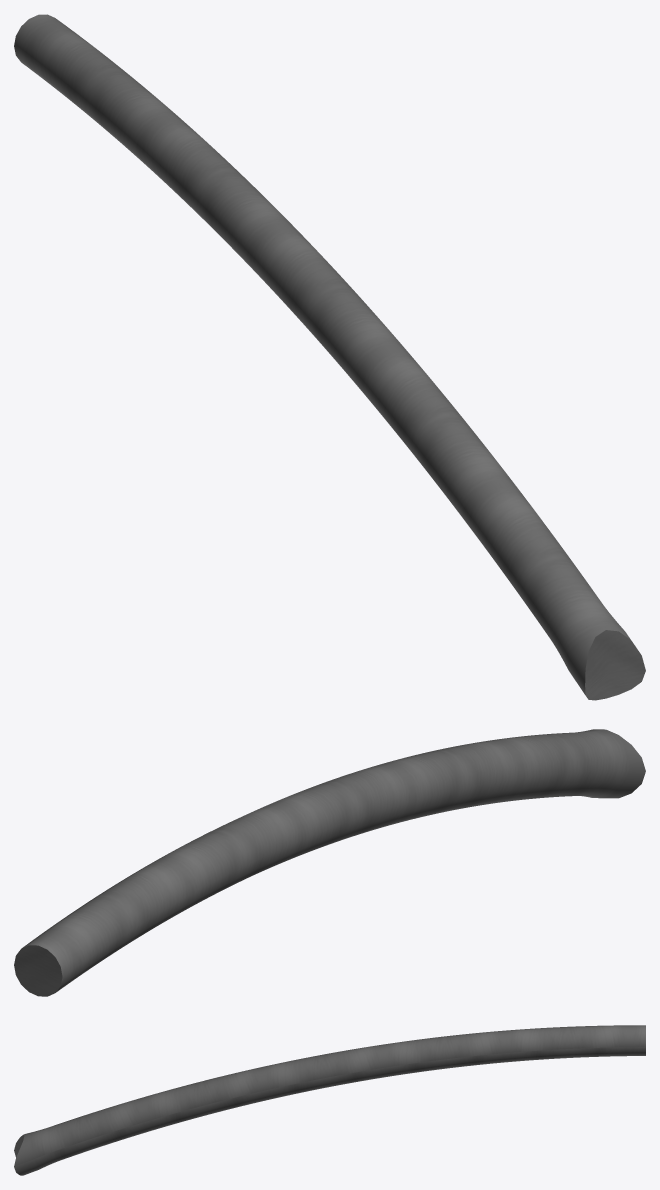
Rendered from mastarmcurve_10x2_inv.obj.
3 views of the same model, one above another, from view 1: azimuth 30°, elevation 25°; view 2: azimuth 150°, elevation 25°; view 3: azimuth 270°, elevation 25° (orthographic). The views are drawn at different scales.
Visible parts, largest first — view 1: mastarm_10x2_inv; view 2: mastarm_10x2_inv; view 3: mastarm_10x2_inv.
Boxes of the visible parts, <box> form: mastarm_10x2_inv: <box>14,14,645,700</box>; mastarm_10x2_inv: <box>14,729,645,996</box>; mastarm_10x2_inv: <box>14,1025,645,1175</box>.
Size of the model in its own units: 0.0609 by 0.2564 by 1.
